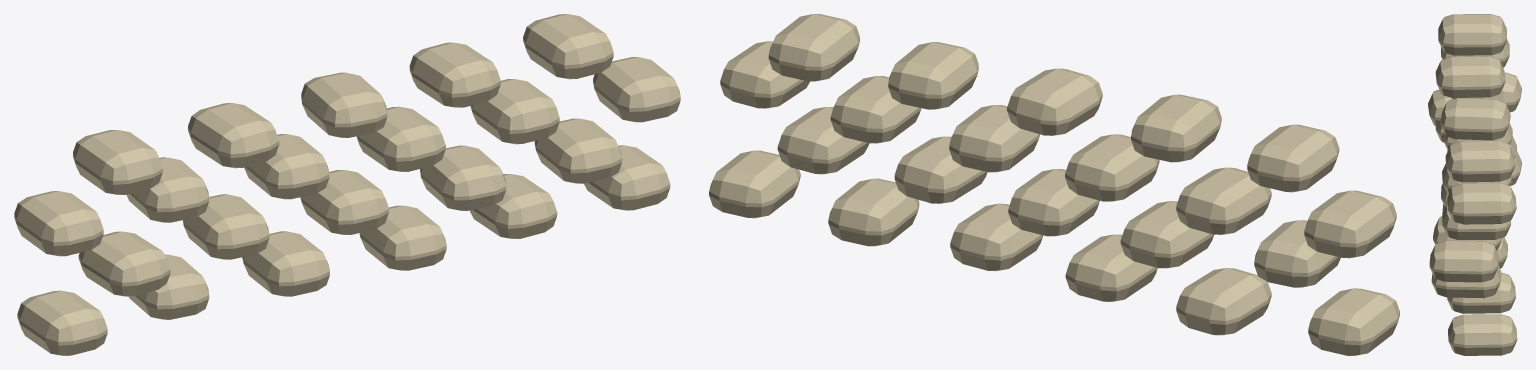
The model's file is sandbag_wall.glb.
3 views of the same model, side by side, from view 1: azimuth 30°, elevation 25°; view 2: azimuth 150°, elevation 25°; view 3: azimuth 270°, elevation 25° (orthographic). The views are drawn at different scales.
Visible parts, largest first — view 1: sandbag_3_3, sandbag_3_1, sandbag_3_4, sandbag_0_0, sandbag_3_0, sandbag_2_0, sandbag_3_2, sandbag_1_0, sandbag_2_5, sandbag_1_4, sandbag_1_3, sandbag_0_2 (+10 smaller); view 2: sandbag_3_2, sandbag_0_1, sandbag_2_0, sandbag_3_0, sandbag_0_0, sandbag_3_4, sandbag_3_1, sandbag_3_3, sandbag_2_1, sandbag_0_5, sandbag_0_4, sandbag_2_2 (+10 smaller); view 3: sandbag_3_3, sandbag_3_4, sandbag_3_2, sandbag_2_5, sandbag_3_1, sandbag_0_5, sandbag_3_0, sandbag_0_4, sandbag_2_4, sandbag_1_4, sandbag_2_1, sandbag_1_0 (+8 smaller).
Boxes of the visible parts, box(x1,y1,x2,y2) form: sandbag_3_3: box(409, 42, 500, 107); sandbag_3_1: box(188, 103, 279, 168); sandbag_3_4: box(523, 14, 613, 79); sandbag_0_0: box(17, 290, 107, 355); sandbag_3_0: box(73, 130, 162, 194); sandbag_2_0: box(14, 191, 103, 256); sandbag_3_2: box(301, 72, 387, 137); sandbag_1_0: box(78, 231, 170, 296); sandbag_2_5: box(593, 57, 680, 122); sandbag_1_4: box(534, 118, 622, 183); sandbag_1_3: box(420, 145, 506, 210); sandbag_0_2: box(242, 231, 329, 296); sandbag_3_2: box(1007, 68, 1102, 135); sandbag_0_1: box(1176, 268, 1271, 335); sandbag_2_0: box(1304, 190, 1396, 258); sandbag_3_0: box(1247, 124, 1339, 192); sandbag_0_0: box(1308, 288, 1399, 355); sandbag_3_4: box(768, 14, 859, 81); sandbag_3_1: box(1131, 94, 1221, 162); sandbag_3_3: box(888, 42, 978, 109); sandbag_2_1: box(1176, 167, 1271, 234); sandbag_0_5: box(709, 150, 800, 218); sandbag_0_4: box(828, 178, 919, 246); sandbag_2_2: box(1065, 134, 1159, 201); sandbag_3_3: box(1445, 140, 1515, 182); sandbag_3_4: box(1447, 182, 1516, 224); sandbag_3_2: box(1440, 98, 1510, 140); sandbag_2_5: box(1429, 240, 1498, 282); sandbag_3_1: box(1435, 56, 1505, 97); sandbag_0_5: box(1448, 314, 1517, 355); sandbag_3_0: box(1438, 14, 1506, 55); sandbag_0_4: box(1447, 272, 1515, 313); sandbag_2_4: box(1442, 203, 1510, 239); sandbag_1_4: box(1431, 266, 1501, 298); sandbag_2_1: box(1452, 72, 1521, 112); sandbag_1_0: box(1428, 89, 1452, 128).
Bounding box in the file's own units: 1.77 × 0.5 × 0.3009.
